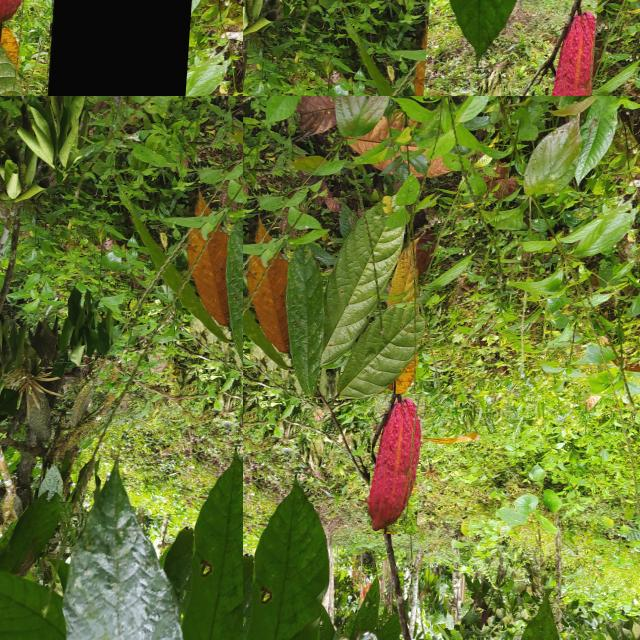Sana: (408, 0, 604, 96), (39, 0, 193, 96), (373, 394, 430, 534), (0, 0, 57, 96)
